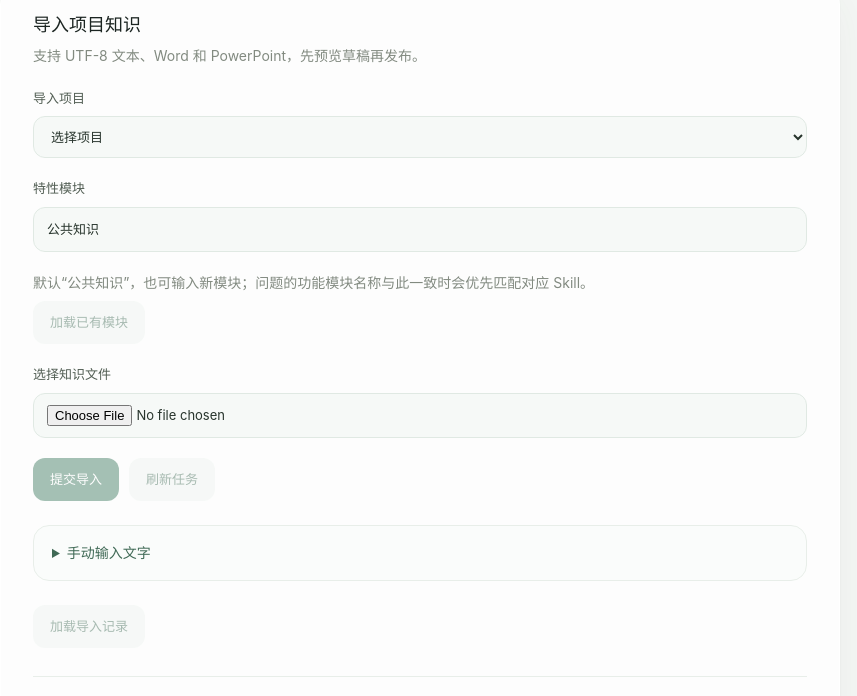
Test: loads a previous import from the server in a new tab
Select "项目一" in the dropdown labelled "导入项目": (420, 137) [33, 116, 807, 158]
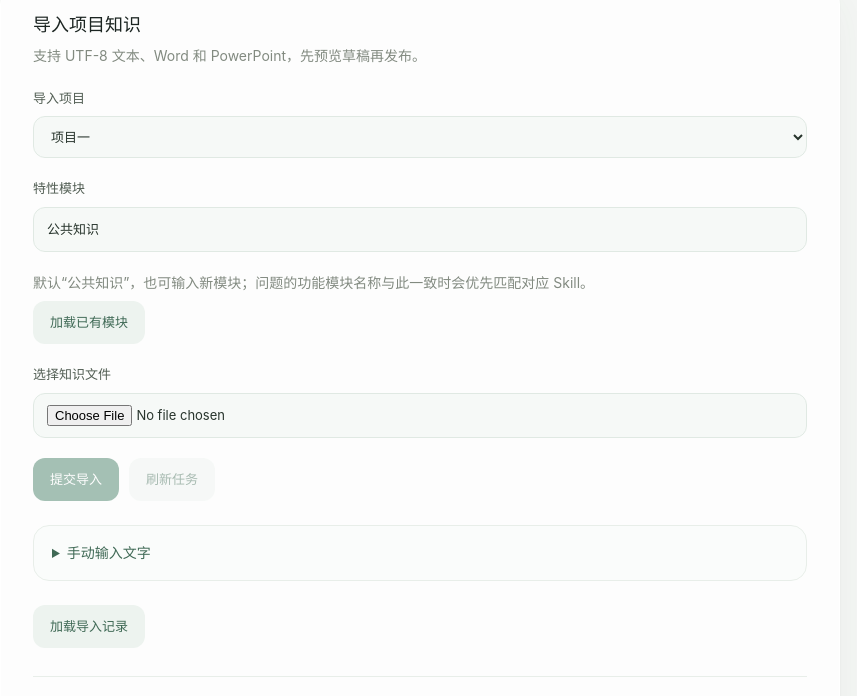
Click the button "加载导入记录": (89, 626) [33, 605, 145, 648]
(page scrolled)
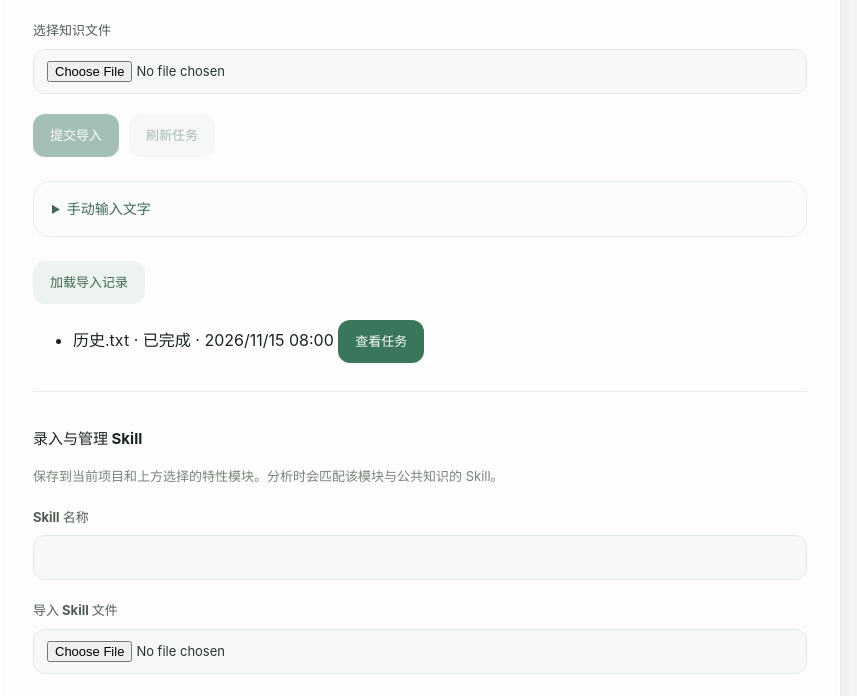
Expected: the list item "历史.txt · 已完成 · 2026/11/15 08:00 查看任务" is shown, [73, 320, 424, 363]
Click the button "查看任务": (381, 341) [338, 320, 424, 363]
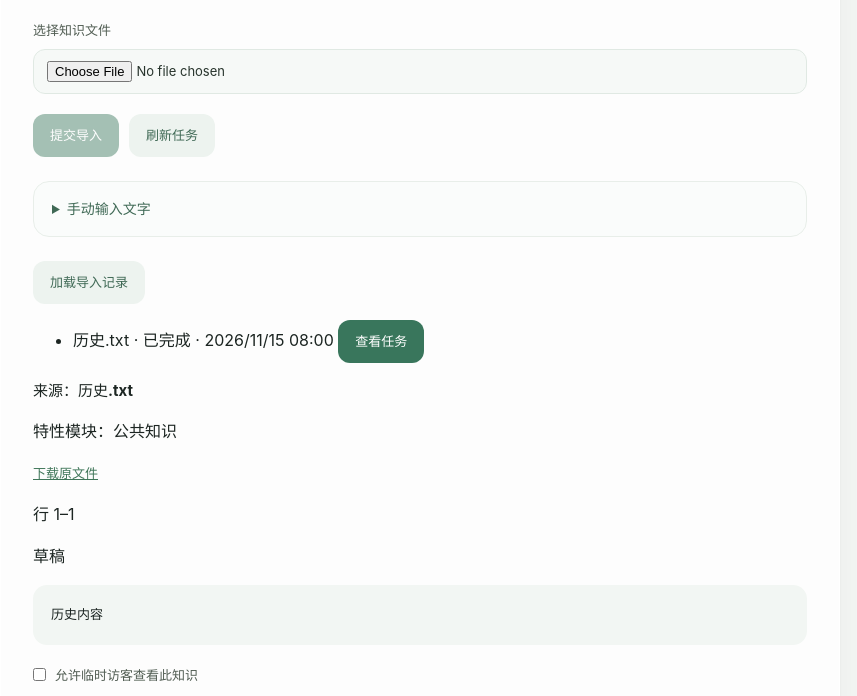
Expected: the text "历史内容" is shown, [33, 585, 807, 644]
